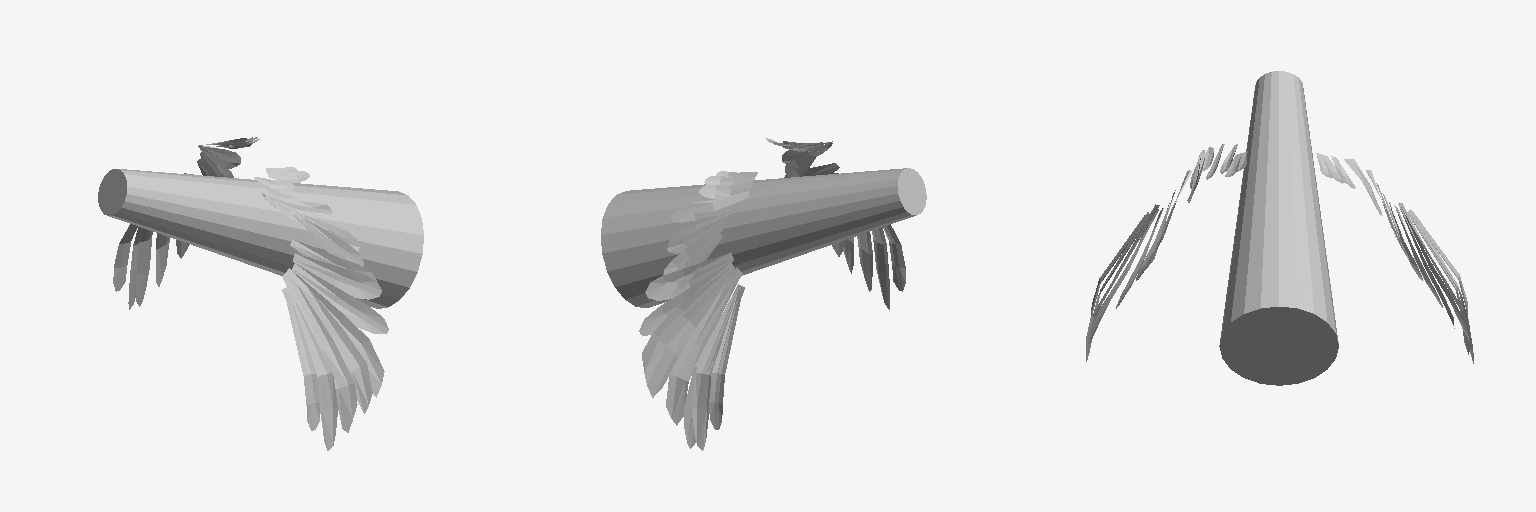
The picture shows the model from 3 angles: view 1: azimuth 30°, elevation 25°; view 2: azimuth 150°, elevation 25°; view 3: azimuth 270°, elevation 25°; orthographic projection.
Parts seen in each view (by area): view 1: pCylinder2; view 2: pCylinder2; view 3: pCylinder2.
Part boxes in pixels (bbox=[...]): pCylinder2: bbox=[98, 137, 423, 450]; pCylinder2: bbox=[601, 138, 926, 450]; pCylinder2: bbox=[1086, 71, 1473, 385].
Size of the model in its own units: 4.16 by 3.11 by 4.6.